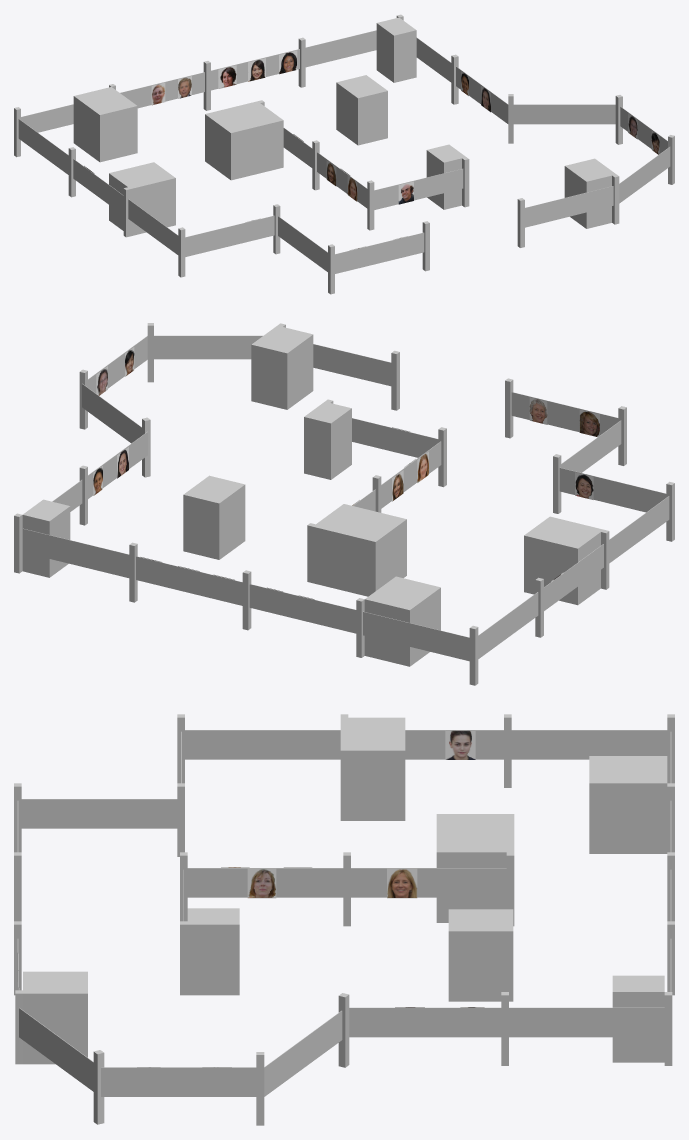
Rendered from task3-faces.dae.
The picture shows the model from 3 angles, top to bottom: view 1: azimuth 30°, elevation 25°; view 2: azimuth 150°, elevation 25°; view 3: azimuth 270°, elevation 25°; orthographic projection. The views are drawn at different scales.
Visible parts, largest first — view 1: Mesh44_Group44_Model_002, Mesh45_Group45_Model_002, Mesh47_Group47_Model_002, Mesh48_Group48_Model_002, Mesh1_Group2_Group1_Model_002, Mesh49_Group49_Model_002, Mesh11_Group12_Group11_Model_002, Mesh17_Group18_Group17_Model_002, Mesh27_Group28_Group27_Model_002, Mesh43_Group43_Model_002, Mesh23_Group24_Group23_Model_002, Mesh41_Group42_Group41_Model_002 (+14 smaller); view 2: Mesh44_Group44_Model_002, Mesh43_Group43_Model_002, Mesh47_Group47_Model_002, Mesh48_Group48_Model_002, Mesh45_Group45_Model_002, Mesh46_Group46_Model_002, Mesh5_Group6_Group5_Model_002, Mesh39_Group40_Group39_Model_002, Mesh41_Group42_Group41_Model_002, Mesh37_Group38_Group37_Model_002, Mesh13_Group14_Group13_Model_002, Mesh27_Group28_Group27_Model_002 (+14 smaller); view 3: Mesh45_Group45_Model_002, Mesh48_Group48_Model_002, Mesh47_Group47_Model_002, Mesh33_Group34_Group33_Model_002, Mesh9_Group10_Group9_Model_002, Mesh3_Group4_Group3_Model_002, Mesh7_Group8_Group7_Model_002, Mesh29_Group30_Group29_Model_002, Mesh44_Group44_Model_002, Mesh35_Group36_Group35_Model_002, Mesh46_Group46_Model_002, Mesh43_Group43_Model_002 (+12 smaller).
Boxes of the visible parts, box(x1,y1,x2,y2) form: Mesh44_Group44_Model_002: box(205, 101, 283, 180); Mesh45_Group45_Model_002: box(73, 87, 137, 162); Mesh47_Group47_Model_002: box(336, 75, 387, 145); Mesh48_Group48_Model_002: box(109, 162, 175, 236); Mesh1_Group2_Group1_Model_002: box(508, 94, 615, 143); Mesh49_Group49_Model_002: box(376, 17, 416, 82); Mesh11_Group12_Group11_Model_002: box(525, 174, 619, 227); Mesh17_Group18_Group17_Model_002: box(335, 221, 429, 273); Mesh27_Group28_Group27_Model_002: box(185, 204, 280, 256); Mesh43_Group43_Model_002: box(564, 158, 616, 228); Mesh23_Group24_Group23_Model_002: box(374, 157, 469, 209); Mesh41_Group42_Group41_Model_002: box(298, 30, 376, 87); Mesh44_Group44_Model_002: box(312, 504, 406, 596); Mesh43_Group43_Model_002: box(251, 325, 313, 409); Mesh47_Group47_Model_002: box(183, 475, 245, 559); Mesh48_Group48_Model_002: box(524, 516, 603, 605); Mesh45_Group45_Model_002: box(364, 576, 440, 666); Mesh46_Group46_Model_002: box(304, 402, 351, 479); Mesh5_Group6_Group5_Model_002: box(363, 611, 478, 685); Mesh39_Group40_Group39_Model_002: box(136, 556, 251, 630); Mesh41_Group42_Group41_Model_002: box(22, 528, 137, 602); Mesh37_Group38_Group37_Model_002: box(249, 584, 364, 657); Mesh13_Group14_Group13_Model_002: box(147, 323, 262, 382); Mesh27_Group28_Group27_Model_002: box(553, 454, 666, 513); Mesh45_Group45_Model_002: box(589, 756, 667, 853); Mesh48_Group48_Model_002: box(340, 717, 405, 820); Mesh47_Group47_Model_002: box(448, 909, 513, 1001); Mesh33_Group34_Group33_Model_002: box(509, 992, 672, 1065); Mesh9_Group10_Group9_Model_002: box(101, 1052, 264, 1125); Mesh3_Group4_Group3_Model_002: box(349, 992, 508, 1065); Mesh7_Group8_Group7_Model_002: box(14, 783, 177, 852); Mesh29_Group30_Group29_Model_002: box(177, 714, 340, 783); Mesh44_Group44_Model_002: box(436, 814, 514, 922); Mesh35_Group36_Group35_Model_002: box(504, 714, 667, 787); Mesh46_Group46_Model_002: box(187, 908, 239, 995); Mesh43_Group43_Model_002: box(23, 971, 87, 1064).
Size of the model in its own units: 6.22 by 5.1 by 0.6.
Materials: 19 (18 with a texture image).
